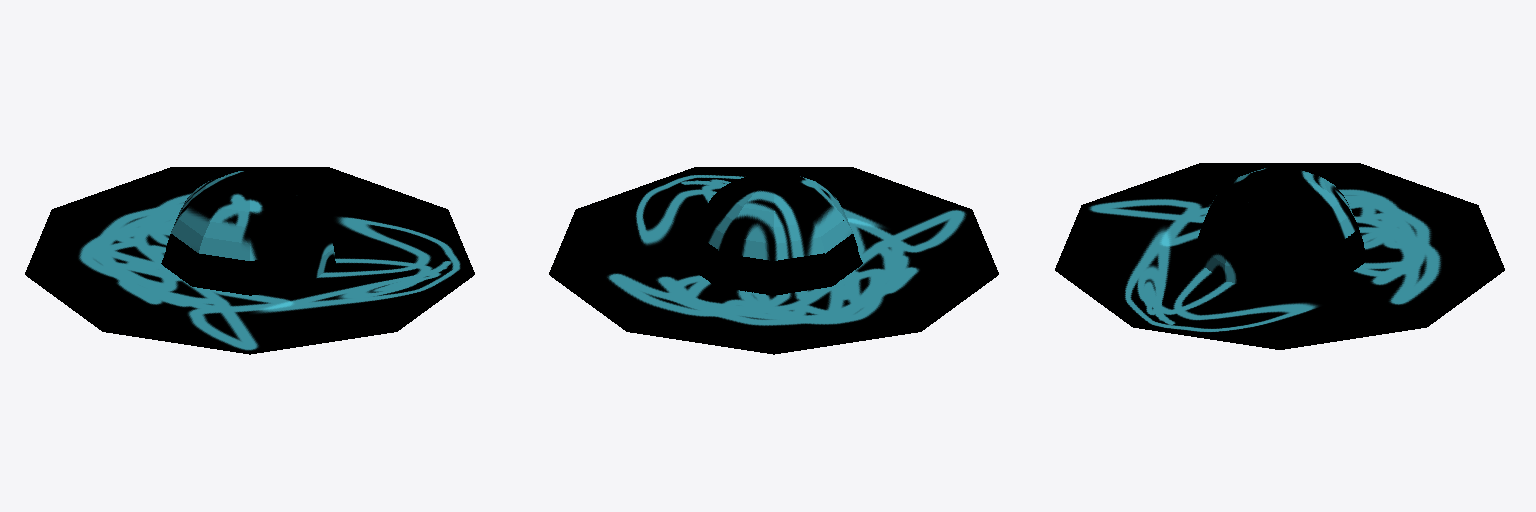
The picture shows the model from 3 angles: view 1: azimuth 30°, elevation 25°; view 2: azimuth 150°, elevation 25°; view 3: azimuth 270°, elevation 25°; orthographic projection.
Visible parts, largest first — view 1: Circle; view 2: Circle; view 3: Circle.
Boxes of the visible parts, box(x1,y1,x2,y2) form: Circle: box(25, 167, 474, 354); Circle: box(549, 167, 998, 354); Circle: box(1055, 163, 1504, 349).
Bounding box in the file's own units: 5.1 × 2 × 5.18.
Materials: 1 (1 with a texture image).